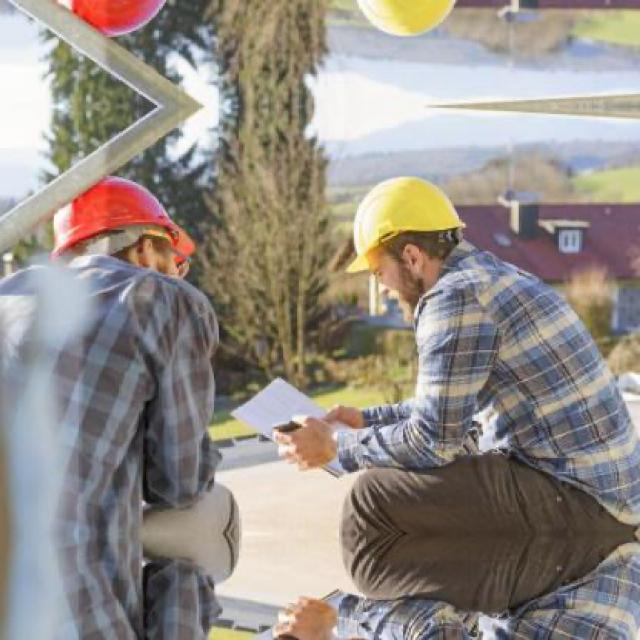helmet: (51, 159, 211, 313), (345, 170, 466, 313), (49, 0, 211, 56), (344, 0, 468, 45)
